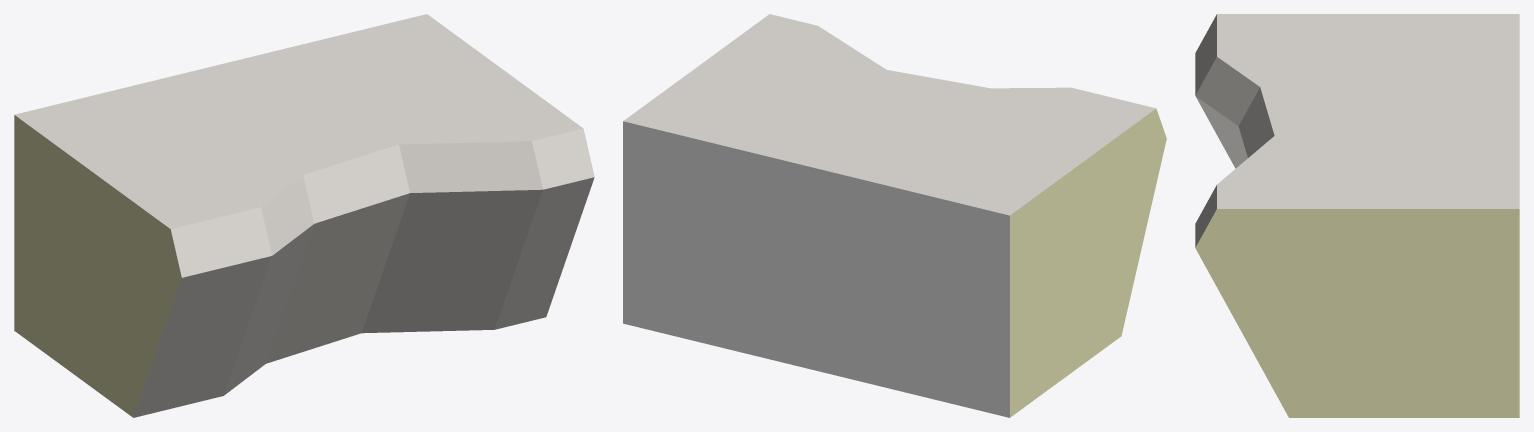
File: Cracked_Straight_2x2_3_Top.fbx
The picture shows the model from 3 angles, left to right: view 1: azimuth 30°, elevation 25°; view 2: azimuth 150°, elevation 25°; view 3: azimuth 270°, elevation 25°; orthographic projection. The views are drawn at different scales.
Visible parts, largest first — view 1: Cracked_Straight_2x2_3_Top; view 2: Cracked_Straight_2x2_3_Top; view 3: Cracked_Straight_2x2_3_Top.
Boxes of the visible parts, left/top/right/bottom form: Cracked_Straight_2x2_3_Top: left=14, top=14, right=594, bottom=417; Cracked_Straight_2x2_3_Top: left=623, top=14, right=1166, bottom=417; Cracked_Straight_2x2_3_Top: left=1195, top=14, right=1519, bottom=417.
Bounding box in the file's own units: 200 × 100 × 141.
